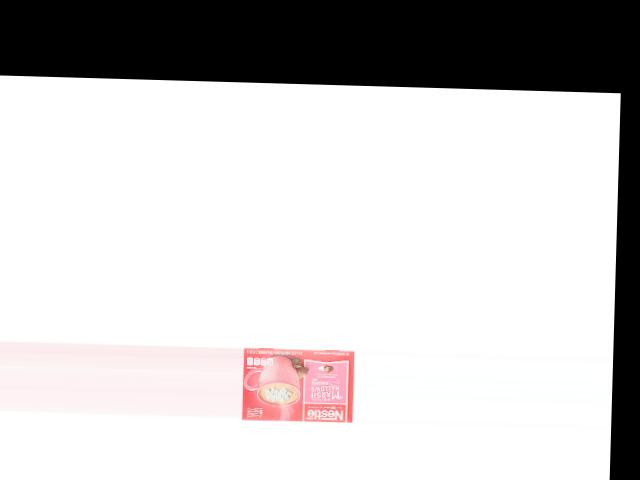chocolate: (240, 343, 352, 420)
